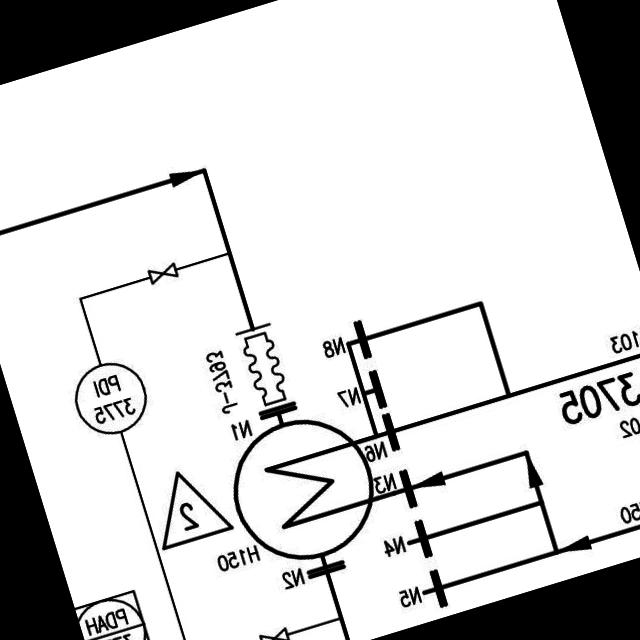EJ: (226, 313, 302, 416)
GV: (140, 254, 184, 288), (250, 618, 297, 640)
HE: (215, 400, 391, 570)
